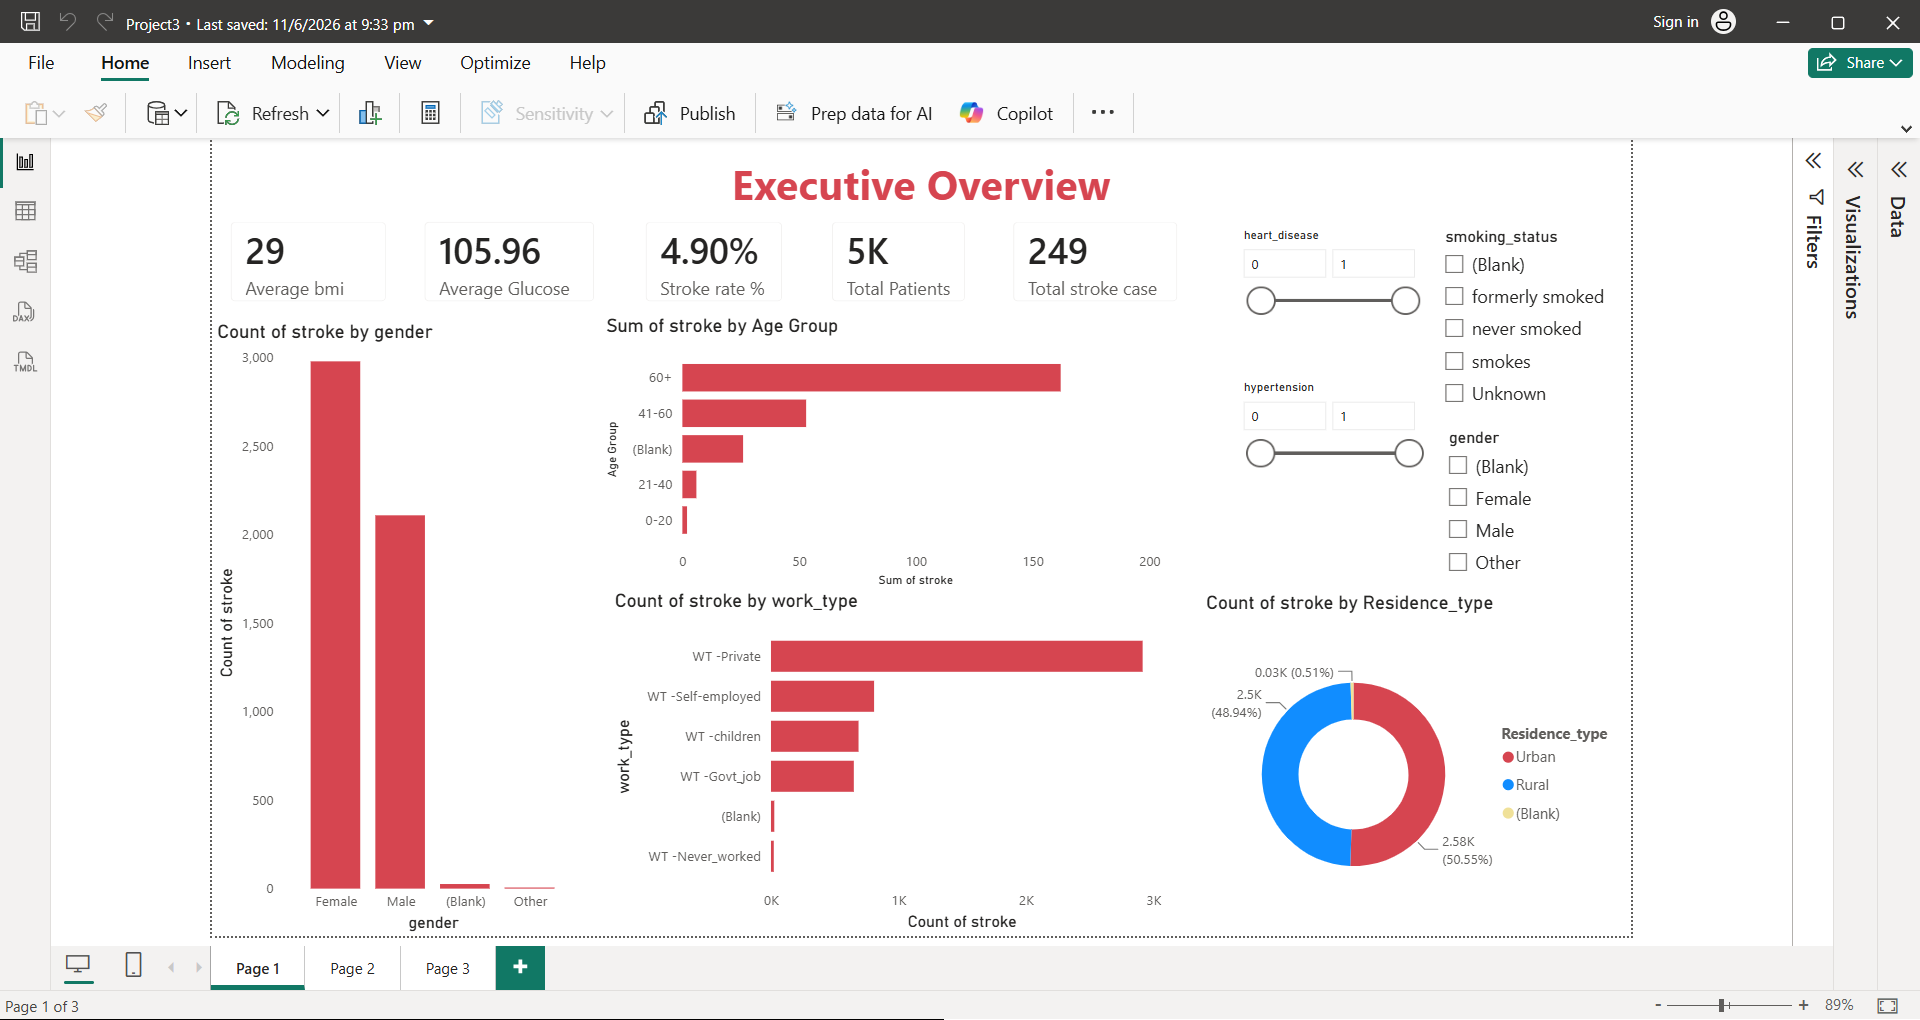

The dashboard page shown, as its layout file describes it:
{"tool":"powerbi","page":{"name":"Page 1","canvas":[1280,720],"ordinal":0},"visuals":[{"type":"cardVisual","fields":{"Data":["Measure.Average bmi"]},"box":[0,58.7,174.9,106.4],"z":0},{"type":"cardVisual","fields":{"Data":["Measure.Total Patients"]},"box":[541.7,58.7,154.1,106.4],"z":1000},{"type":"cardVisual","fields":{"Data":["Measure.Total stroke case"]},"box":[705.6,58.7,182.2,106.4],"z":2000},{"type":"cardVisual","fields":{"Data":["Measure.Stroke rate %"]},"box":[374.2,58.7,157.7,106.4],"z":3000},{"type":"textbox","box":[0,11,1279.1,64.8],"z":4000},{"type":"cardVisual","fields":{"Data":["Measure.Average Glucose"]},"box":[174.9,58.7,187.1,106.4],"z":5000},{"type":"clusteredColumnChart","fields":{"Category":["General_Details_table.gender"],"Y":["CountNonNull(Risk_Factors_Table.stroke)"]},"box":[0,164.6,339.2,556.3],"z":6000},{"type":"clusteredBarChart","fields":{"Category":["General_Details_table.Age Group"],"Y":["Sum(Risk_Factors_Table.stroke)"]},"box":[351,159,509.9,250.7],"z":7000},{"type":"donutChart","fields":{"Y":["CountNonNull(Risk_Factors_Table.stroke)"],"Category":["General_Details_table.Residence_type"]},"box":[891.4,409.6,388.9,310.6],"z":8000},{"type":"slicer","fields":{"Values":["General_Details_table.gender"]},"box":[1101.8,256.8,178.5,148],"z":9000},{"type":"slicer","fields":{"Values":["Risk_Factors_Table.smoking_status"]},"box":[1099.3,75.8,181,181],"z":10000},{"type":"slicer","fields":{"Values":["Risk_Factors_Table.hypertension"]},"box":[917.1,212.8,183.4,146.7],"z":11000},{"type":"slicer","fields":{"Values":["Risk_Factors_Table.heart_disease"]},"box":[917.1,75.8,179.8,137],"z":12000},{"type":"clusteredBarChart","fields":{"Y":["CountNonNull(Risk_Factors_Table.stroke)"],"Category":["General_Details_table.work_type"]},"box":[358.3,407.2,502.6,313],"z":13000}]}

Visuals, with their boxes on the page's 1280x720 design canvas (x1, y1, x2, y2). These are canvas units, not pixel positions in the 1920x1020 screenshot, which may show the page scaled, cropped or inside an application window:
cardVisual - Measure.Average bmi: crop(0, 59, 175, 165)
cardVisual - Measure.Total Patients: crop(542, 59, 696, 165)
cardVisual - Measure.Total stroke case: crop(706, 59, 888, 165)
cardVisual - Measure.Stroke rate %: crop(374, 59, 532, 165)
textbox: crop(0, 11, 1279, 76)
cardVisual - Measure.Average Glucose: crop(175, 59, 362, 165)
clusteredColumnChart - General_Details_table.gender x CountNonNull(Risk_Factors_Table.stroke): crop(0, 165, 339, 721)
clusteredBarChart - General_Details_table.Age Group x Sum(Risk_Factors_Table.stroke): crop(351, 159, 861, 410)
donutChart - CountNonNull(Risk_Factors_Table.stroke) x General_Details_table.Residence_type: crop(891, 410, 1280, 720)
slicer - General_Details_table.gender: crop(1102, 257, 1280, 405)
slicer - Risk_Factors_Table.smoking_status: crop(1099, 76, 1280, 257)
slicer - Risk_Factors_Table.hypertension: crop(917, 213, 1100, 360)
slicer - Risk_Factors_Table.heart_disease: crop(917, 76, 1097, 213)
clusteredBarChart - CountNonNull(Risk_Factors_Table.stroke) x General_Details_table.work_type: crop(358, 407, 861, 720)
